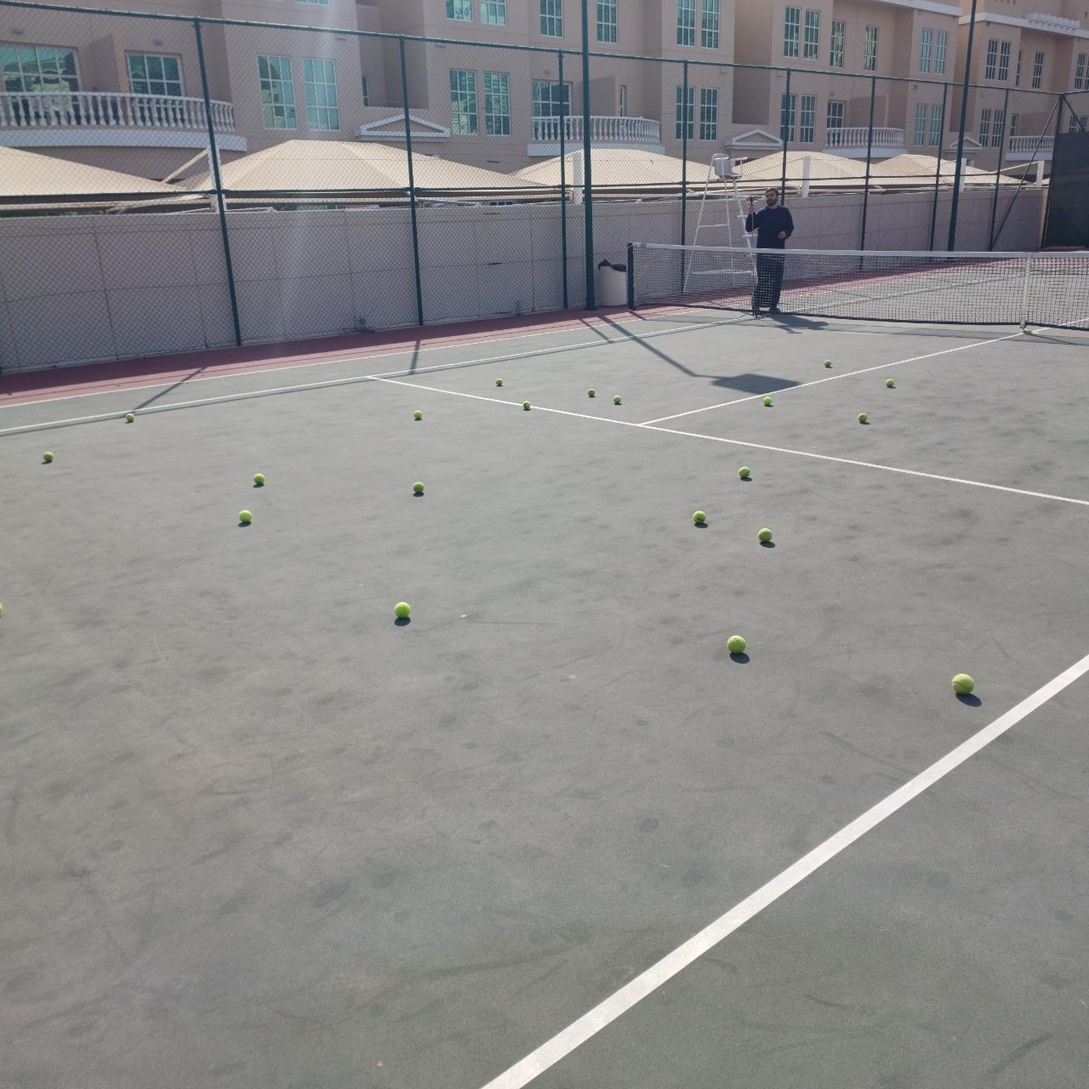tennis-ball: (950, 670, 974, 695), (725, 632, 746, 653), (391, 599, 411, 620), (756, 526, 773, 544), (237, 507, 252, 524), (412, 481, 425, 495), (692, 510, 705, 523), (253, 473, 265, 486), (739, 465, 750, 478), (43, 451, 54, 463), (857, 412, 868, 422), (125, 413, 135, 423), (587, 388, 596, 397), (885, 378, 894, 387), (414, 411, 422, 420), (522, 401, 530, 410), (613, 395, 622, 403), (763, 397, 772, 405), (496, 378, 503, 386), (823, 360, 831, 367)
